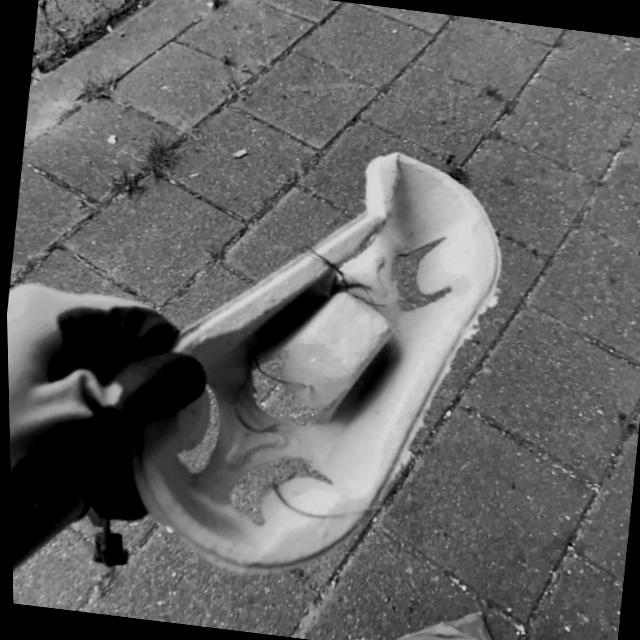Paper: (100, 120, 522, 604)
